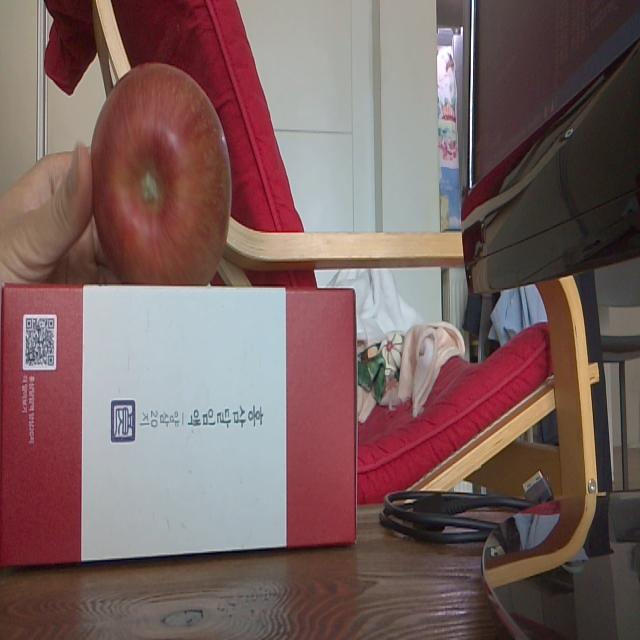apple: (92, 63, 231, 284)
